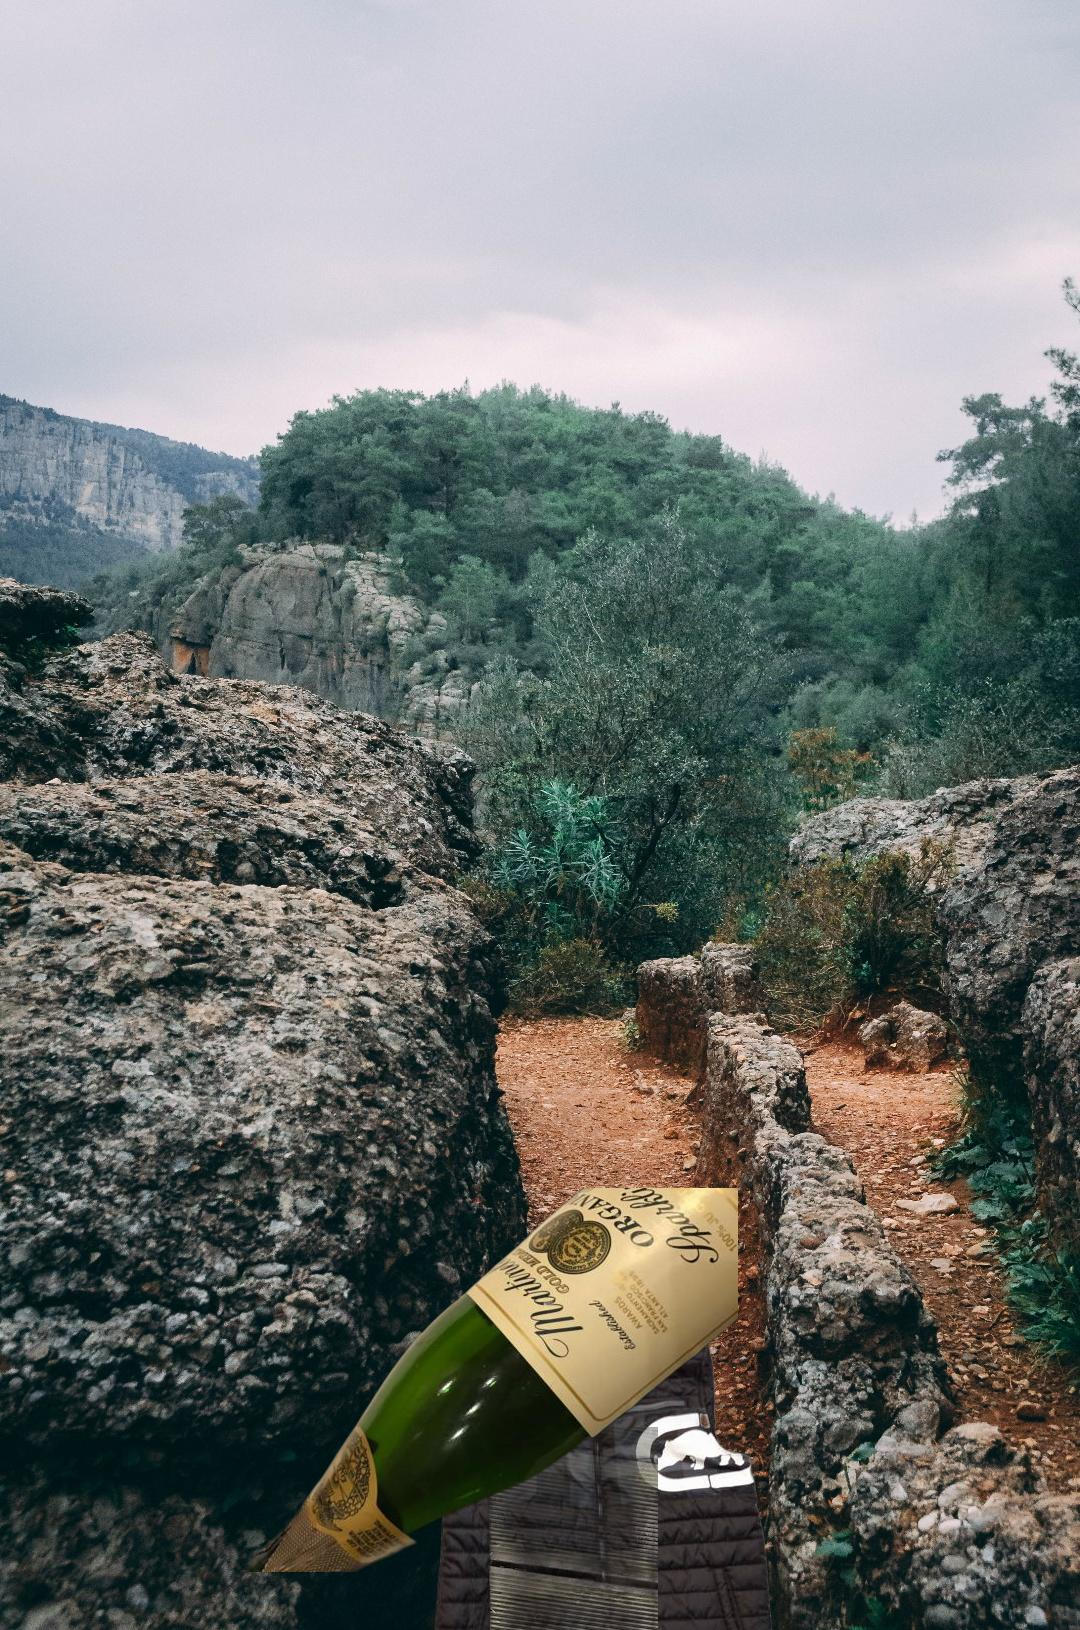clothes: (432, 1242, 783, 1630)
glass: (225, 1188, 738, 1572)
metal-cans: (312, 1426, 658, 1630)
